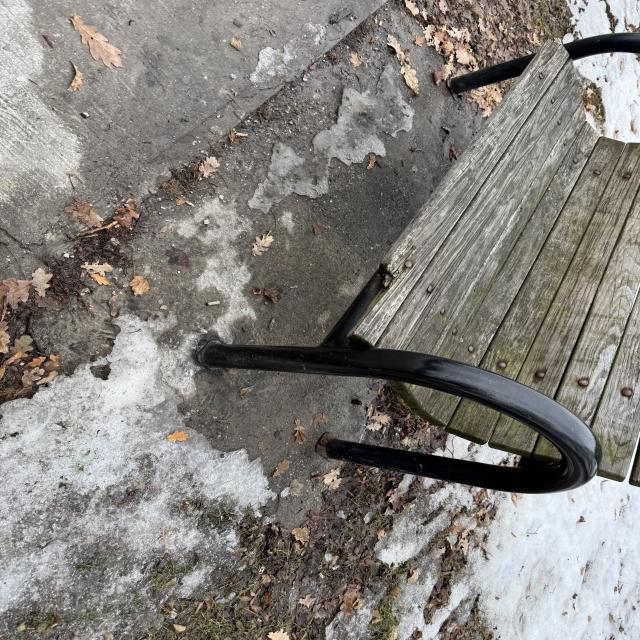Bench: (233, 19, 640, 485)
